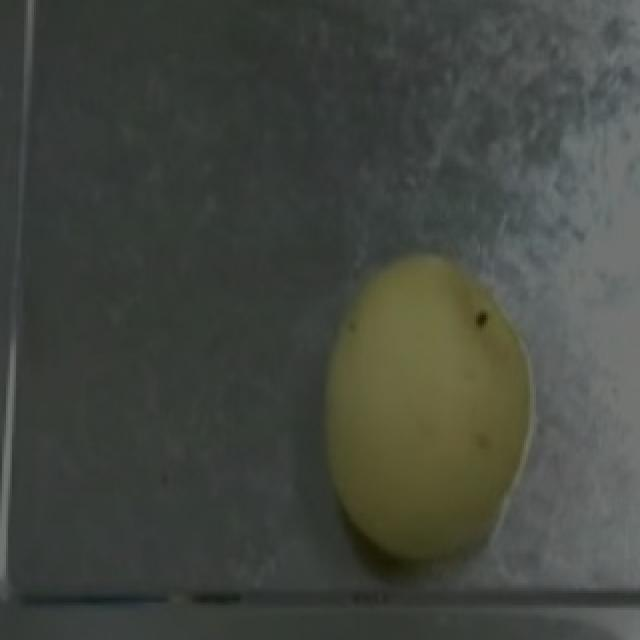Fruit: (298, 226, 552, 563)
